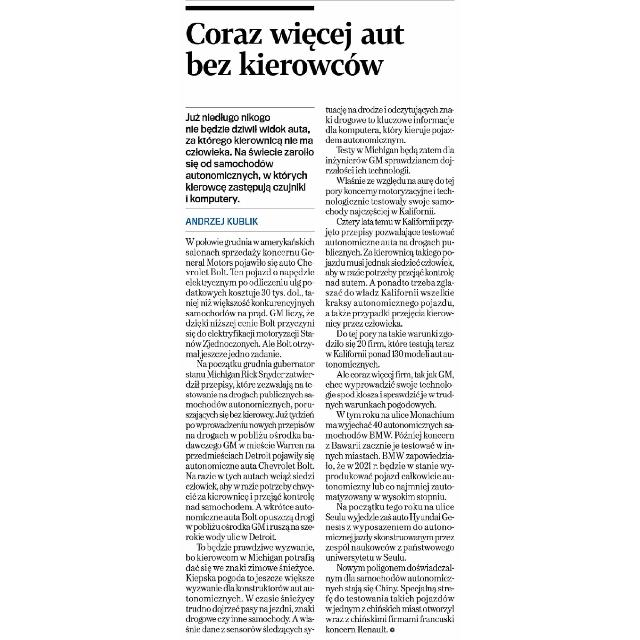author: (183, 213, 264, 229)
body: (322, 104, 460, 636), (182, 235, 321, 638)
lead: (182, 110, 318, 206)
title: (182, 15, 424, 85)
